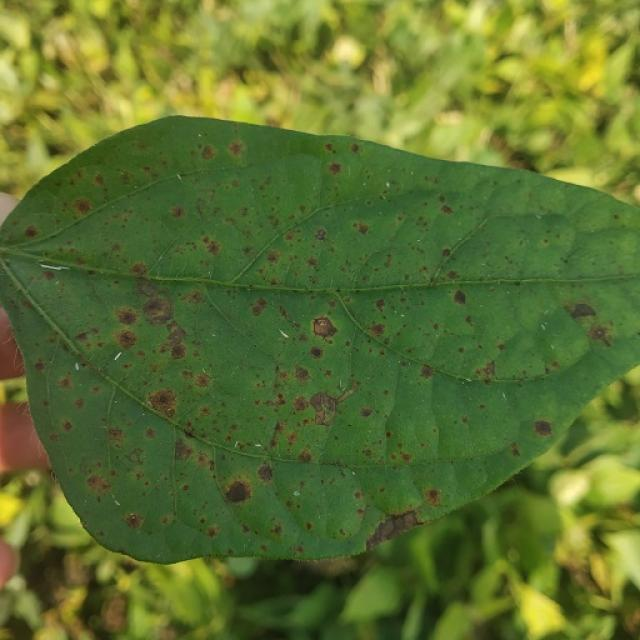Anthracnose: (213, 464, 257, 508), (366, 511, 418, 548), (309, 311, 344, 346), (309, 391, 341, 426), (160, 325, 189, 361), (147, 388, 178, 418), (141, 295, 172, 322), (267, 420, 291, 450), (85, 473, 110, 495), (588, 324, 613, 345), (567, 302, 597, 319), (173, 437, 194, 461), (115, 329, 138, 350), (474, 359, 496, 379), (115, 307, 138, 326), (201, 236, 221, 256), (193, 198, 211, 220), (125, 447, 145, 465), (72, 198, 93, 215), (257, 463, 274, 483), (533, 420, 553, 437), (250, 297, 267, 317), (227, 140, 246, 157), (73, 329, 96, 343), (292, 395, 310, 412), (124, 513, 142, 529), (129, 261, 148, 276), (200, 144, 217, 160), (294, 366, 310, 383), (369, 322, 385, 338), (425, 488, 441, 504), (194, 373, 211, 388), (264, 250, 281, 265), (169, 204, 185, 219), (23, 225, 40, 239), (297, 449, 312, 464), (419, 364, 434, 379), (453, 290, 467, 305), (353, 222, 369, 235), (182, 428, 198, 441), (327, 162, 342, 175), (309, 346, 324, 359), (59, 375, 72, 389), (509, 442, 521, 457), (314, 228, 327, 241), (374, 298, 386, 312), (206, 526, 219, 538), (42, 269, 56, 280), (61, 420, 73, 432), (360, 407, 373, 418), (74, 397, 85, 410), (306, 257, 318, 268), (145, 427, 156, 439), (34, 361, 45, 373), (441, 205, 453, 215), (350, 143, 360, 154), (441, 248, 451, 258), (49, 433, 59, 443), (317, 320, 327, 329)
Blackgram: (0, 118, 639, 559)
